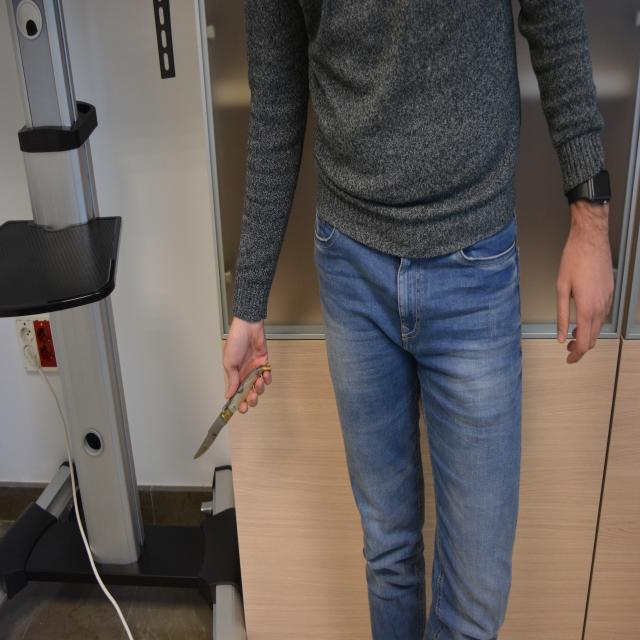knife: (192, 363, 277, 445)
